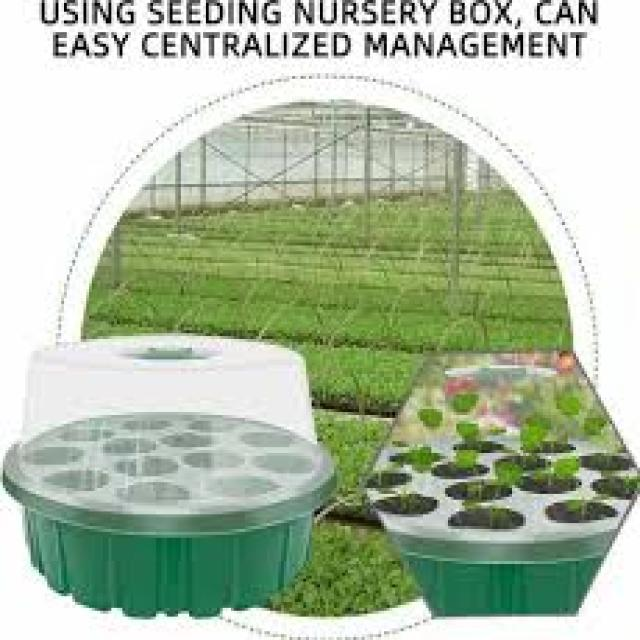basket: (0, 321, 348, 630), (403, 555, 605, 619)
